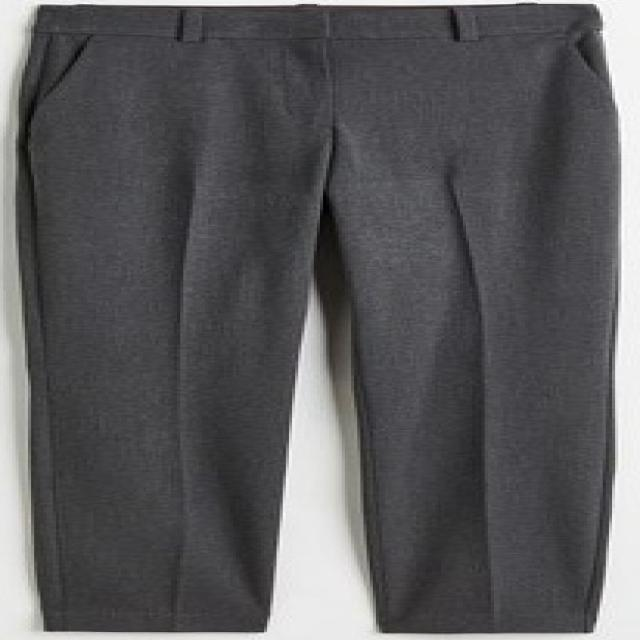pants: (21, 1, 629, 636)
